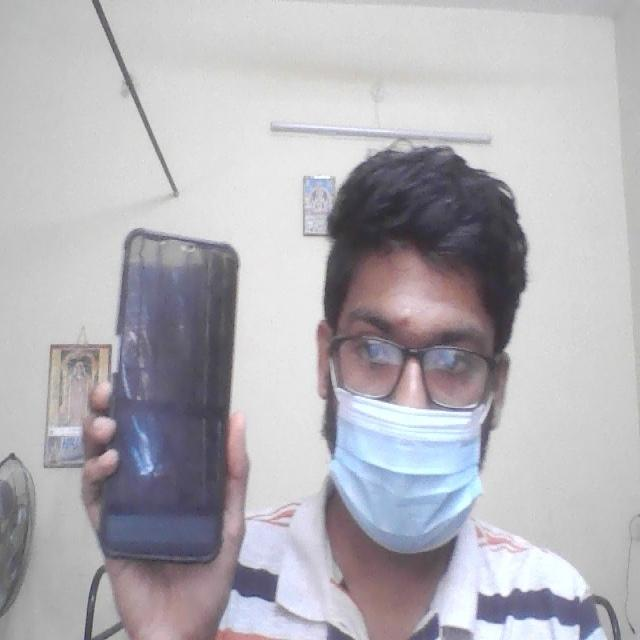Mobile: (109, 232, 242, 570)
